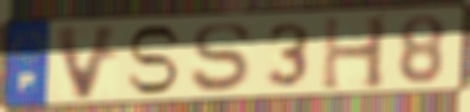3: (264, 21, 313, 89)
8: (397, 12, 446, 87)
H: (318, 14, 391, 94)
S: (188, 20, 254, 95), (123, 23, 185, 97)
V: (52, 22, 124, 103)
